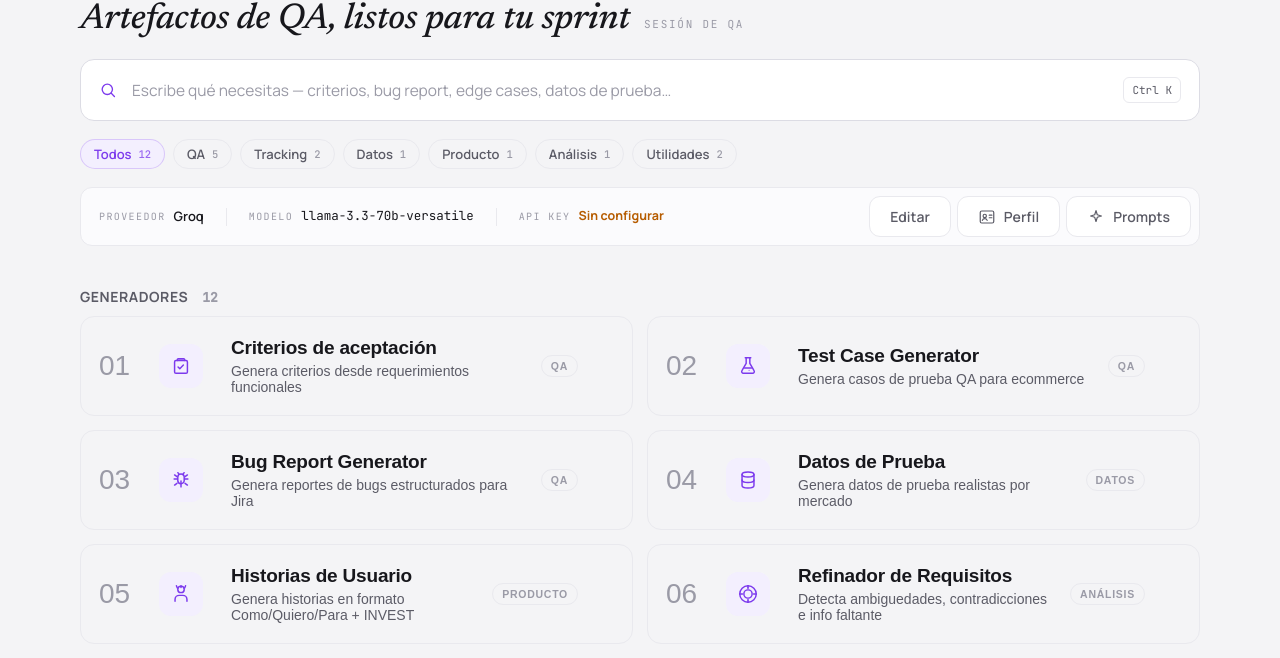
Test: LandingScreen — Perfil y Prompts › abre el editor de perfil y lo cierra
Expected: the text "Perfil del proyecto" is not shown
Click the button "Perfil" at {"x": 1009, "y": 216}, box [957,196,1060,237]
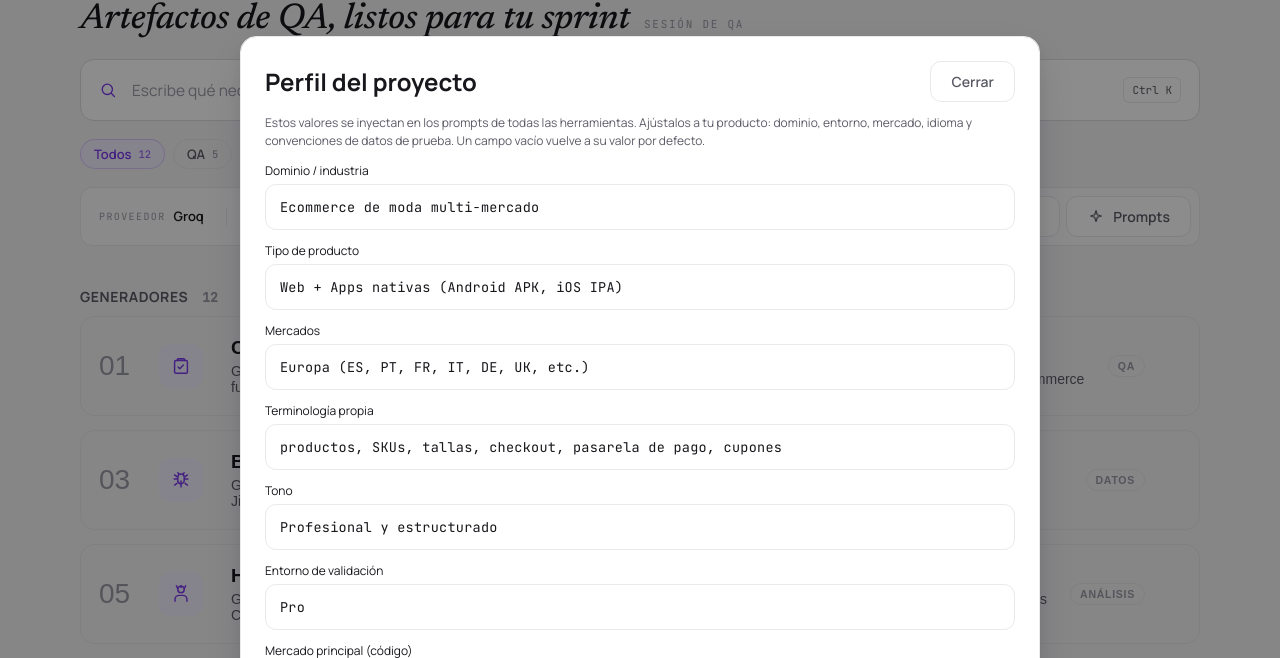
Expected: the heading "Perfil del proyecto" is shown, [265,64,477,100]
Click the button "Cerrar" at {"x": 973, "y": 82}, box [930,61,1015,102]
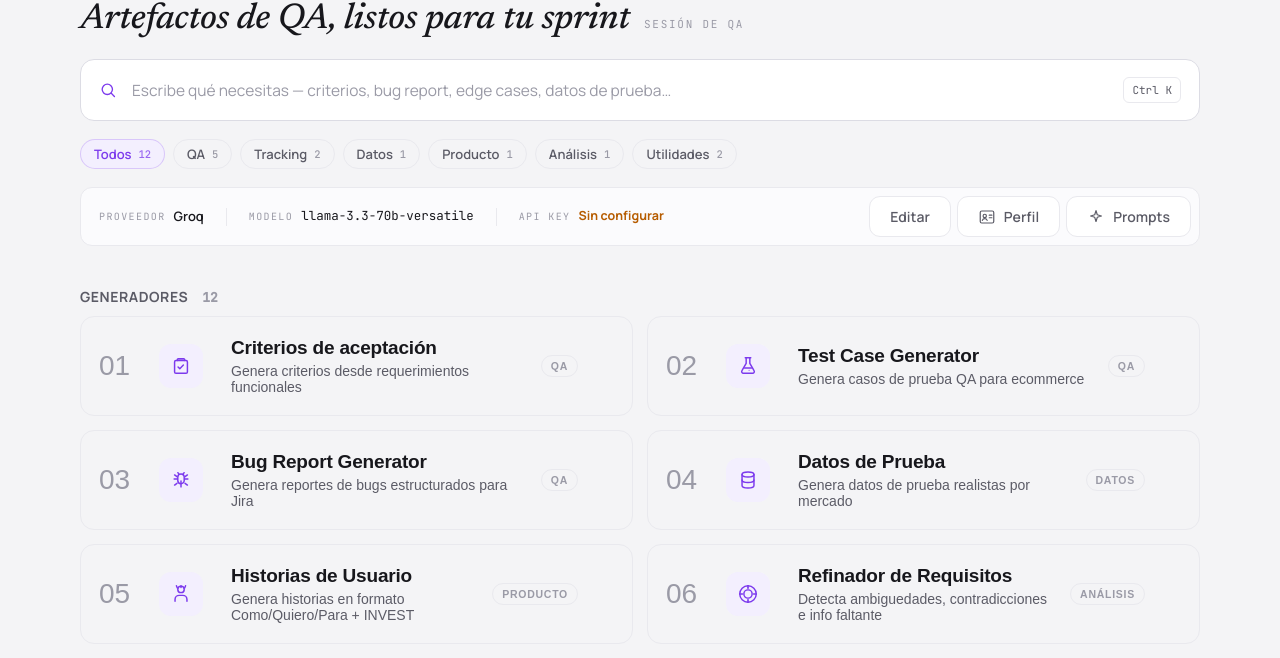
Expected: the heading "Perfil del proyecto" is gone
